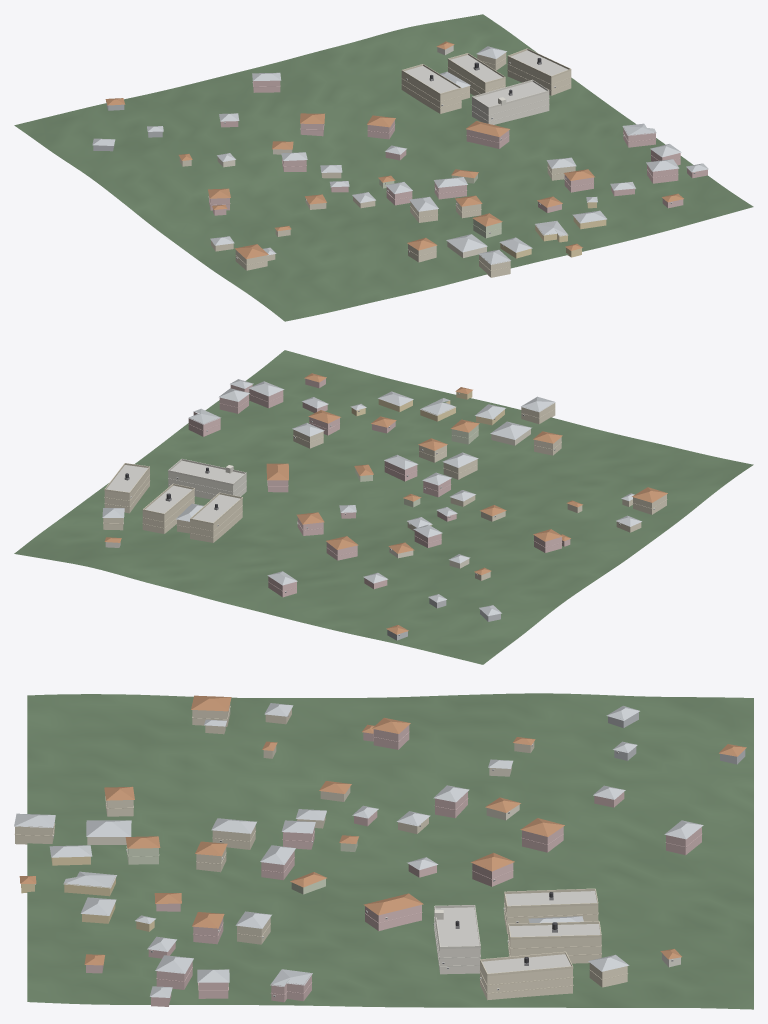
3 renders of one model, top to bottom at view 1: azimuth 30°, elevation 25°; view 2: azimuth 150°, elevation 25°; view 3: azimuth 270°, elevation 25°, orthographic. The views are drawn at different scales.
Parts seen in each view (by area): view 1: Terrain-col, Buildings-col, Details; view 2: Terrain-col, Buildings-col, Details; view 3: Terrain-col, Buildings-col, Details.
Boxes of the visible parts, x1,y1,x2,y2 form: Terrain-col: [14, 14, 753, 321]; Buildings-col: [92, 41, 708, 277]; Details: [106, 48, 695, 271]; Terrain-col: [14, 350, 753, 664]; Buildings-col: [102, 373, 667, 640]; Details: [103, 393, 667, 635]; Terrain-col: [27, 693, 753, 1009]; Buildings-col: [14, 695, 746, 1006]; Details: [14, 706, 702, 996].
Size of the model in its own units: 257 by 13.89 by 261.
